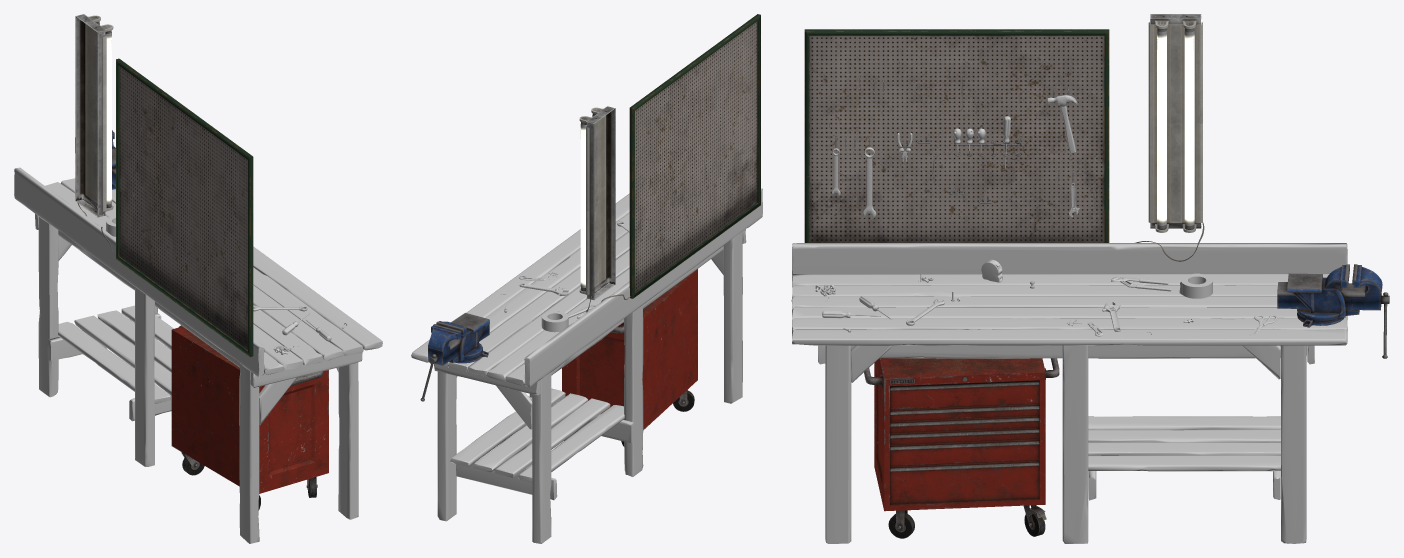
The picture shows the model from 3 angles, left to right: view 1: azimuth 30°, elevation 25°; view 2: azimuth 150°, elevation 25°; view 3: azimuth 270°, elevation 25°; orthographic projection. The views are drawn at different scales.
Parts seen in each view (by area): view 1: Pegboard_Sheet_low, Tool_Cabinet_Body_low, Workbench_Group_1_low, Workbench_Group_5_low, Workbench_Group_2_low, Pegboard_Frame_low, Light_Fixture_Base_low, Light_Fixture_Plate_low, Workbench_Group_3_low, Workbench_Group_4_low, Light_Fixture_Bulbs_low; view 2: Pegboard_Sheet_low, Workbench_Group_1_low, Workbench_Group_5_low, Tool_Cabinet_Body_low, Workbench_Group_2_low, Pegboard_Frame_low, Workbench_Group_3_low, Light_Fixture_Base_low, Light_Fixture_Plate_low, Vice_Base_low, Vice_Slide_low, Light_Fixture_Bulbs_low (+2 smaller); view 3: Pegboard_Sheet_low, Workbench_Group_1_low, Workbench_Group_2_low, Workbench_Group_5_low, Tool_Cabinet_Drawers_low, Tool_Cabinet_Body_low, Light_Fixture_Plate_low, Workbench_Group_3_low, Pegboard_Frame_low, Light_Fixture_Bulbs_low, Tool_Cabinet_Handles_low, Vice_Base_low (+3 smaller).
Part boxes in pixels (x1,y1,x2,y2): Pegboard_Sheet_low: (119,66,247,349); Tool_Cabinet_Body_low: (171,326,328,493); Workbench_Group_1_low: (14,167,382,395); Workbench_Group_5_low: (38,217,358,543); Workbench_Group_2_low: (58,178,363,403); Pegboard_Frame_low: (116,58,253,356); Light_Fixture_Base_low: (75,16,105,216); Light_Fixture_Plate_low: (85,24,106,211); Workbench_Group_3_low: (47,230,296,425); Workbench_Group_4_low: (35,214,362,387); Light_Fixture_Bulbs_low: (96,21,111,207); Pegboard_Sheet_low: (635,21,757,291); Workbench_Group_1_low: (411,188,762,477); Workbench_Group_5_low: (437,231,742,543); Tool_Cabinet_Body_low: (562,269,697,429); Workbench_Group_2_low: (434,212,629,482); Pegboard_Frame_low: (629,14,760,298); Workbench_Group_3_low: (456,246,723,500); Light_Fixture_Base_low: (587,108,615,299); Light_Fixture_Plate_low: (586,115,605,294); Vice_Base_low: (436,313,489,363); Vice_Slide_low: (428,320,489,365); Light_Fixture_Bulbs_low: (580,113,595,291); Pegboard_Sheet_low: (809,35,1104,242); Workbench_Group_1_low: (792,243,1347,471); Workbench_Group_2_low: (791,274,1347,455); Workbench_Group_5_low: (825,345,1306,543); Tool_Cabinet_Drawers_low: (890,380,1039,504); Tool_Cabinet_Body_low: (874,358,1045,511); Light_Fixture_Plate_low: (1148,22,1202,222); Workbench_Group_3_low: (851,344,1306,500); Pegboard_Frame_low: (804,29,1109,242); Light_Fixture_Bulbs_low: (1157,28,1194,229); Tool_Cabinet_Handles_low: (864,358,1059,471); Vice_Base_low: (1287,264,1359,327).
Bounding box in the file's own units: 0.699 × 2.14 × 2.49.
